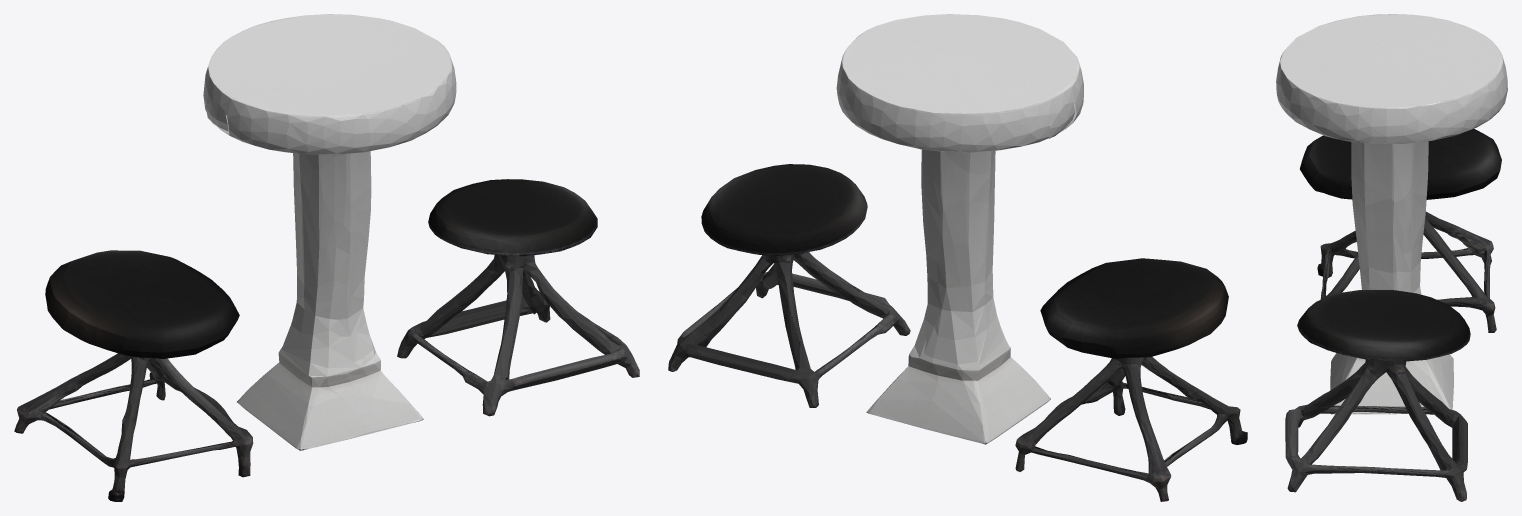
3 views of the same model, side by side, from view 1: azimuth 30°, elevation 25°; view 2: azimuth 150°, elevation 25°; view 3: azimuth 270°, elevation 25° (orthographic). The views are drawn at different scales.
Visible parts, largest first — view 1: mesh_2; view 2: mesh_2; view 3: mesh_2.
Part boxes in pixels (x1,y1,x2,y2): mesh_2: (14, 14, 639, 501); mesh_2: (668, 14, 1247, 501); mesh_2: (1276, 14, 1507, 501).
Size of the model in its own units: 5.15 by 3.35 by 2.12.
Materials: 3 (3 with a texture image).
